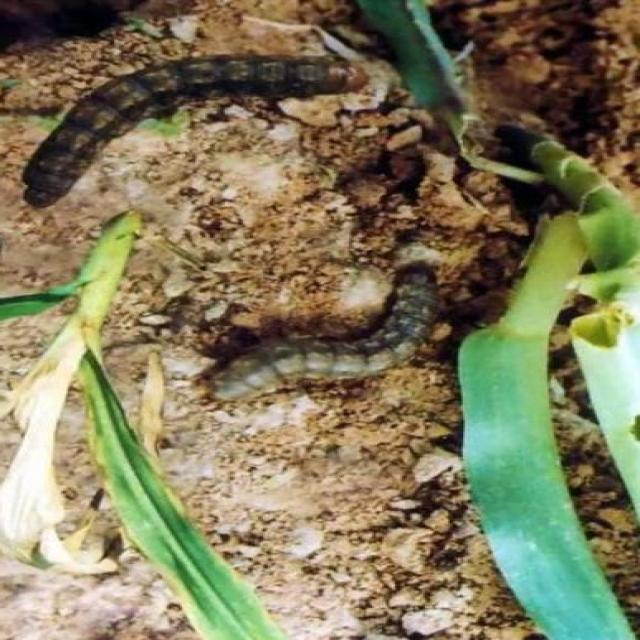black cutworm: (24, 43, 376, 227), (187, 259, 457, 413)
